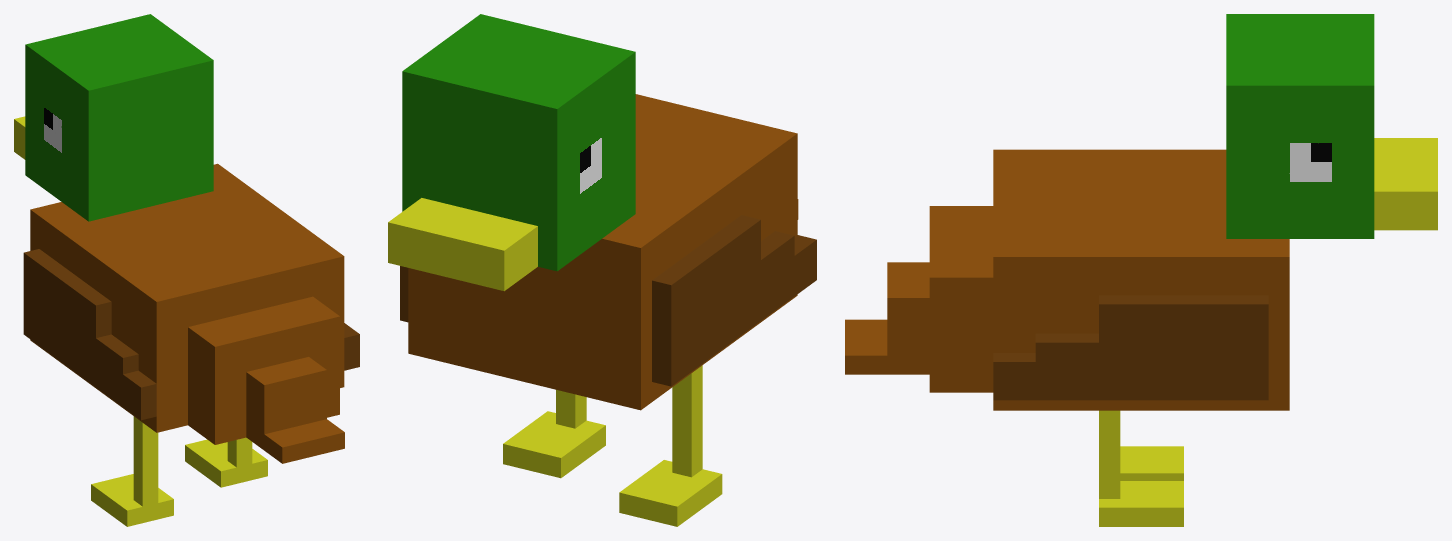
Rendered from duck.fbx.
3 renders of one model, left to right at view 1: azimuth 30°, elevation 25°; view 2: azimuth 150°, elevation 25°; view 3: azimuth 270°, elevation 25°, orthographic. The views are drawn at different scales.
Visible parts, largest first — view 1: cube_2, cube, cube_8, cube_13, cube_9, cube_7, cube_4, cube_3, cube_6, cube_14, cube_15, cube_5 (+2 smaller); view 2: cube_2, cube, cube_13, cube_1, cube_4, cube_3, cube_6, cube_14, cube_15, cube_5, cube_10; view 3: cube_2, cube, cube_10, cube_8, cube_1, cube_9, cube_12, cube_3, cube_7, cube_4, cube_11, cube_5.
Boxes of the visible parts, x1,y1,x2,y2 form: cube_2: (30, 163, 344, 432); cube: (25, 14, 213, 221); cube_8: (188, 296, 339, 444); cube_13: (23, 249, 111, 386); cube_9: (246, 357, 326, 450); cube_7: (264, 419, 344, 463); cube_4: (91, 474, 173, 526); cube_3: (185, 439, 267, 487); cube_6: (133, 416, 158, 506); cube_14: (96, 334, 138, 406); cube_15: (123, 370, 156, 420); cube_5: (227, 437, 252, 483); cube_2: (408, 94, 797, 410); cube: (402, 14, 635, 271); cube_13: (652, 215, 760, 386); cube_1: (388, 198, 537, 291); cube_4: (619, 460, 722, 526); cube_3: (503, 411, 605, 478); cube_6: (672, 365, 702, 477); cube_14: (761, 231, 794, 320); cube_15: (794, 235, 816, 295); cube_5: (556, 389, 586, 428); cube_10: (400, 266, 408, 322); cube_2: (993, 149, 1289, 410); cube: (1226, 14, 1374, 238); cube_10: (1099, 295, 1268, 400); cube_8: (929, 206, 993, 392); cube_1: (1374, 138, 1437, 230); cube_9: (887, 262, 929, 374); cube_12: (1035, 333, 1098, 400); cube_3: (1099, 481, 1183, 526); cube_7: (845, 319, 887, 374); cube_4: (1120, 446, 1183, 480); cube_11: (993, 353, 1035, 400); cube_5: (1099, 410, 1120, 498).
Size of the model in its own units: 87.5 by 150 by 175.
Materials: 1 (1 with a texture image).
